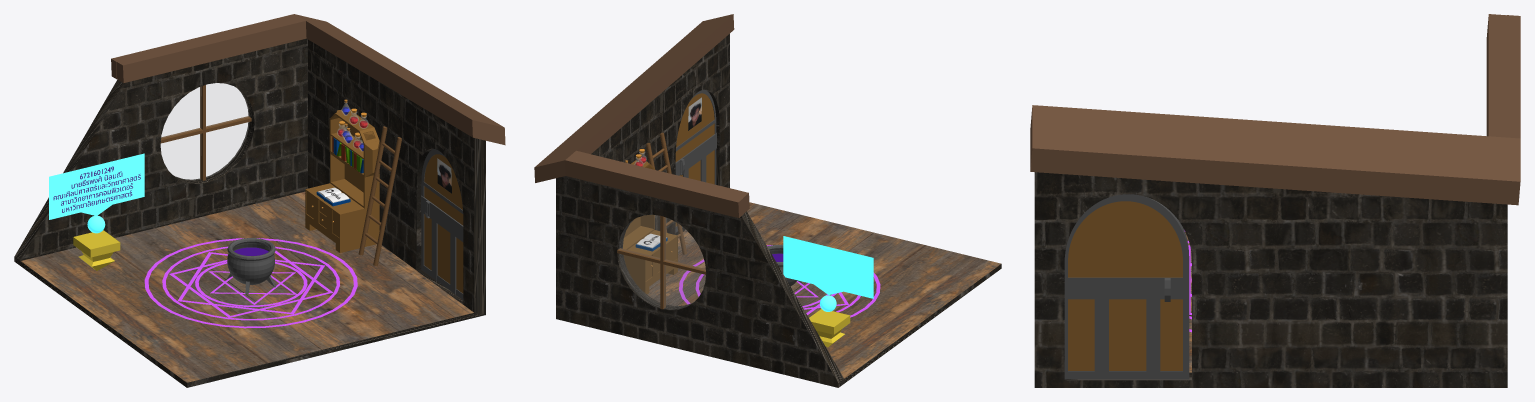
File: Magic.glb
The picture shows the model from 3 angles, left to right: view 1: azimuth 30°, elevation 25°; view 2: azimuth 150°, elevation 25°; view 3: azimuth 270°, elevation 25°; orthographic projection. The views are drawn at different scales.
Parts seen in each view (by area): view 1: Plane, Plane.001, Cube.017, Cube.006, Circle.001, Circle, Plane.004, Cube.016, Cube.011, pot, Cylinder.001, Cube (+2 smaller); view 2: Plane, Plane.001, Cube.017, Circle.001, Plane.004, Cube.006, Cube.016, Cube.011, Plane.003, Cube, Circle, Cylinder.001; view 3: Plane, Cube.017, Cube.016, Cube.011.
Boxes of the visible parts, x1,y1,x2,y2 form: Plane: (14,38,485,387); Plane.001: (21,191,473,382); Cube.017: (111,14,505,145); Cube.006: (305,110,379,252); Circle.001: (161,83,249,179); Circle: (144,238,357,328); Plane.004: (49,153,144,219); Cube.016: (424,154,463,293); Cube.011: (421,149,463,299); pot: (226,238,275,294); Cylinder.001: (358,126,401,265); Cube: (73,230,120,270); Plane: (556,34,1001,387); Plane.001: (647,202,1000,378); Cube.017: (534,14,749,217); Circle.001: (619,215,705,309); Plane.004: (783,236,873,298); Cube.006: (623,160,677,294); Cube.016: (675,93,714,226); Cube.011: (675,89,716,232); Plane.003: (617,215,706,309); Cube: (809,309,850,347); Circle: (679,245,880,317); Cylinder.001: (646,132,686,254); Plane: (1034,172,1507,387); Cube.017: (1030,14,1520,205); Cube.016: (1068,201,1182,370); Cube.011: (1064,194,1189,379).
Bounding box in the file's own units: 21.31 × 12.74 × 20.72.
Materials: 22 (4 with a texture image).
